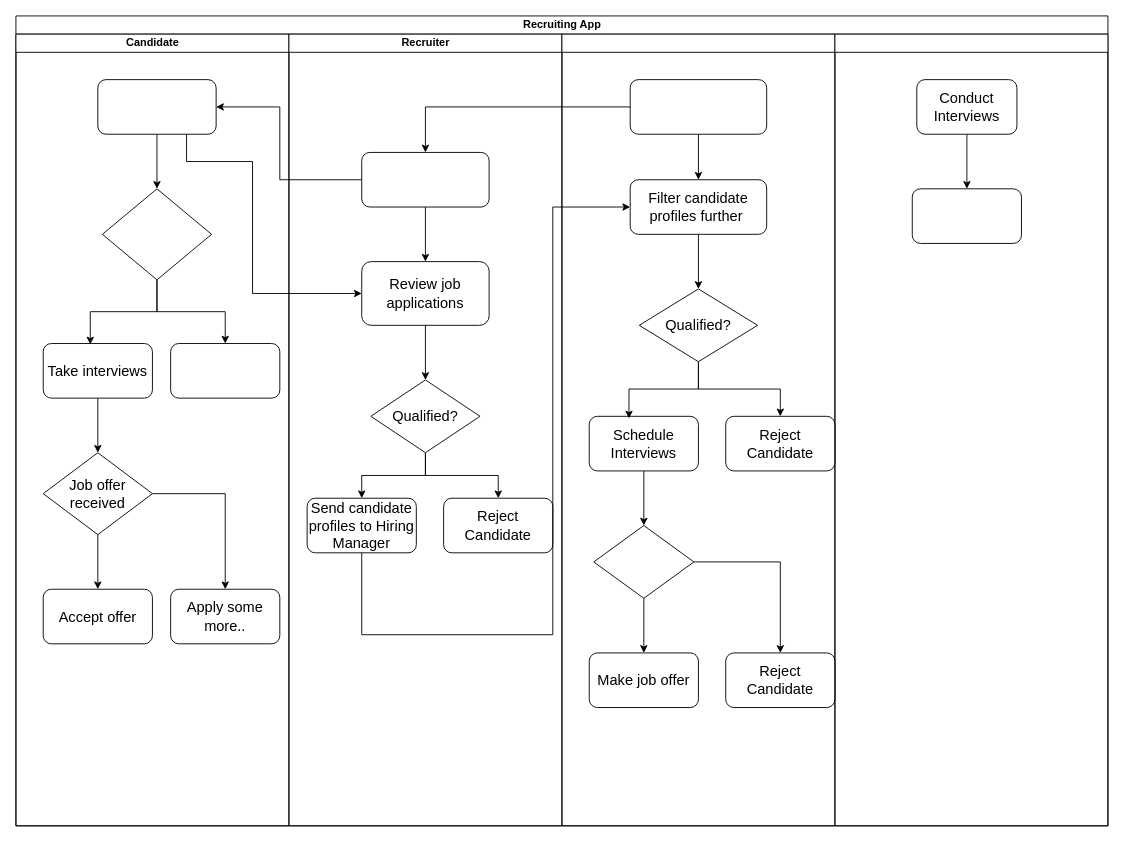
Image size: 1124x842. Some labels were removed from this diagram. Here are the shapes that lost their labels. From the top down, the box of each, then its label:
(97, 79, 216, 134): Apply to the job posting
(629, 79, 767, 134): Send job details to recruiter
(361, 152, 489, 207): Post job details on employment websites
(101, 188, 212, 280): Interview scheduled?
(911, 188, 1021, 243): Post Reviews
(170, 343, 280, 398): Apply for more postings
(561, 33, 835, 826): Hiring Manager
(834, 33, 1108, 826): Interviewer
(593, 525, 694, 598): Good reviews?
